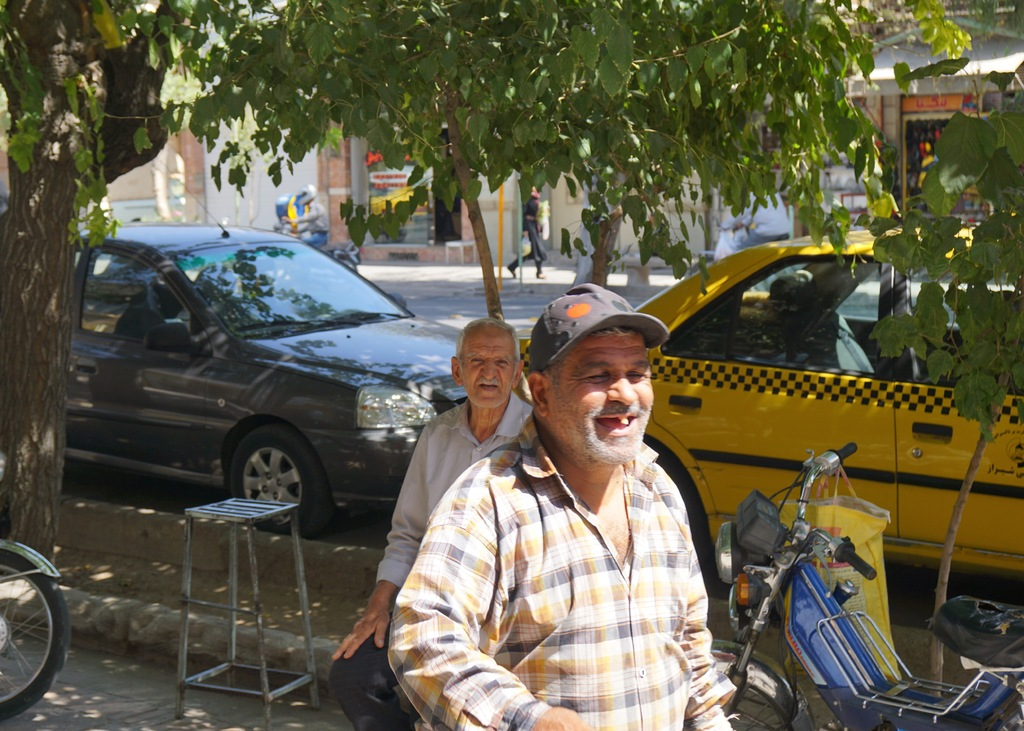Car: (518, 218, 1023, 591), (65, 174, 465, 530)
